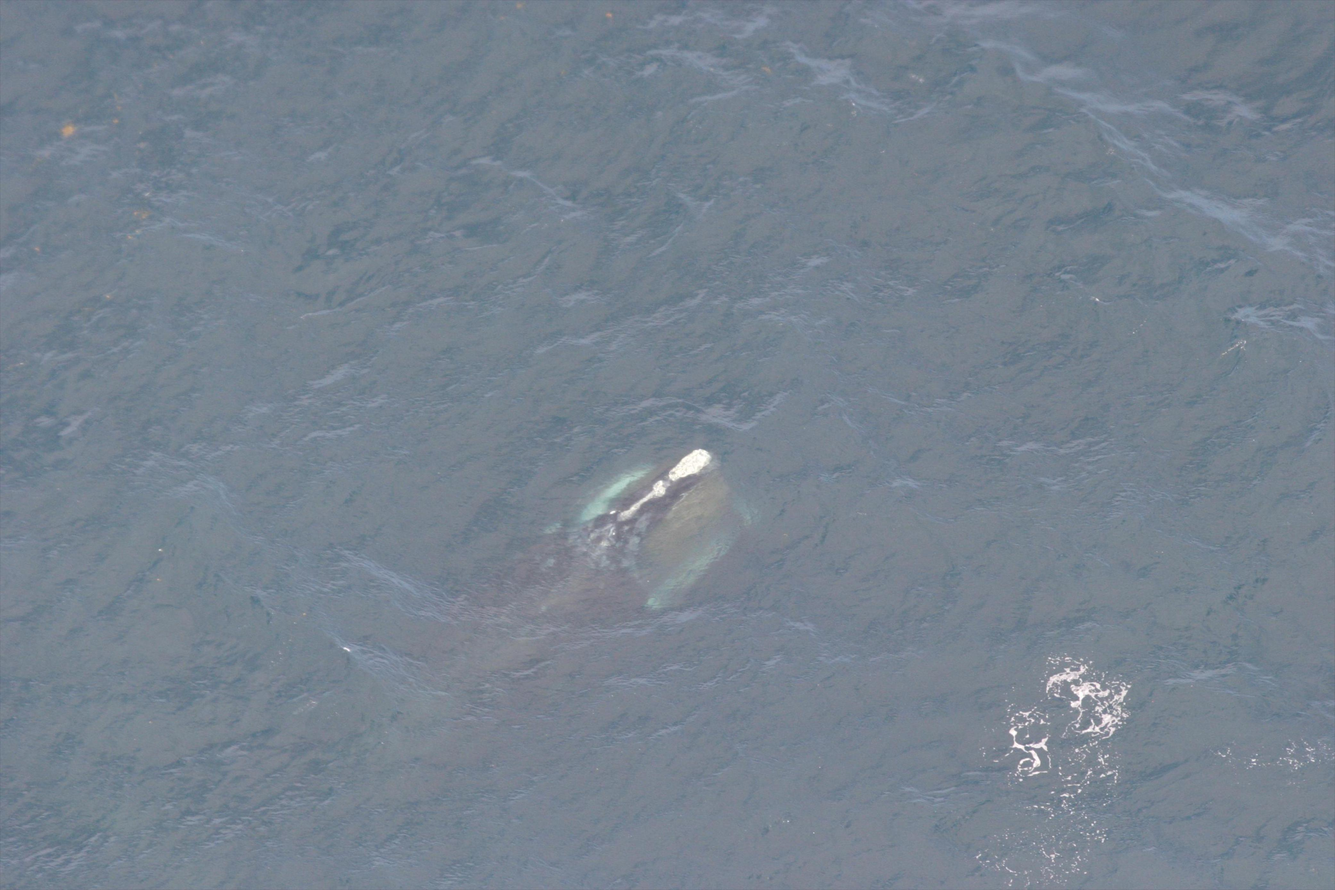whale: (374, 441, 753, 781)
